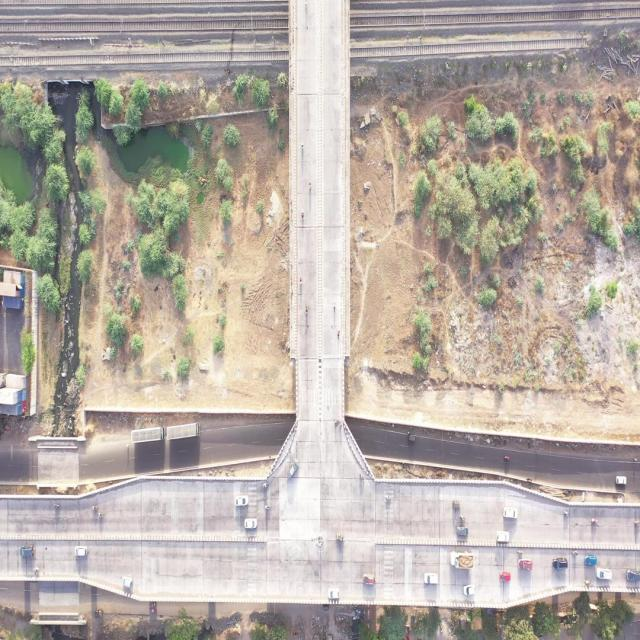3W: (94, 609, 103, 618), (335, 534, 344, 543), (321, 604, 330, 612), (453, 500, 460, 509)
Cars: (287, 457, 299, 482), (596, 568, 613, 582), (19, 544, 35, 558), (551, 558, 568, 570), (496, 530, 510, 544), (504, 506, 518, 520), (518, 558, 533, 571), (424, 572, 438, 585), (74, 545, 88, 557), (327, 588, 341, 600), (362, 573, 376, 585), (584, 554, 598, 566), (626, 568, 640, 580), (244, 518, 257, 530), (235, 496, 249, 507), (122, 577, 132, 589), (464, 585, 476, 595), (501, 571, 511, 582), (457, 526, 468, 536), (616, 476, 627, 486)
LCV: (450, 551, 474, 570)
M2W: (590, 518, 600, 526), (571, 549, 579, 557), (584, 577, 591, 586), (563, 509, 571, 516), (515, 549, 524, 555), (305, 303, 309, 316), (304, 0, 308, 13), (459, 514, 466, 521), (385, 494, 391, 502), (503, 455, 511, 461), (301, 209, 305, 221), (308, 180, 312, 192), (300, 141, 304, 152), (98, 512, 105, 518), (265, 504, 271, 511), (359, 472, 364, 480), (334, 418, 338, 428), (337, 330, 341, 340), (333, 302, 337, 312), (299, 276, 303, 286), (54, 504, 60, 509), (92, 506, 98, 511), (263, 483, 269, 488), (339, 419, 342, 428)
MAV: (167, 422, 200, 441), (130, 428, 166, 443)
